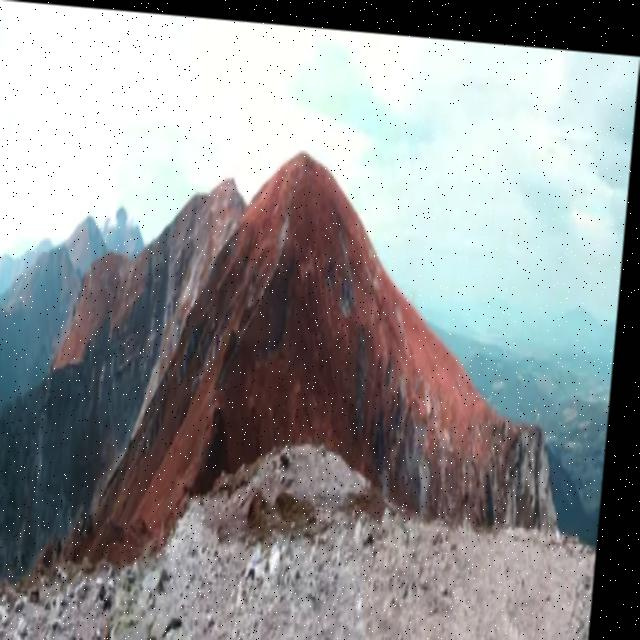Ciemniak: (92, 163, 155, 257)
Krzesanica: (202, 125, 262, 244)
Malolaczniak: (251, 54, 361, 243)
